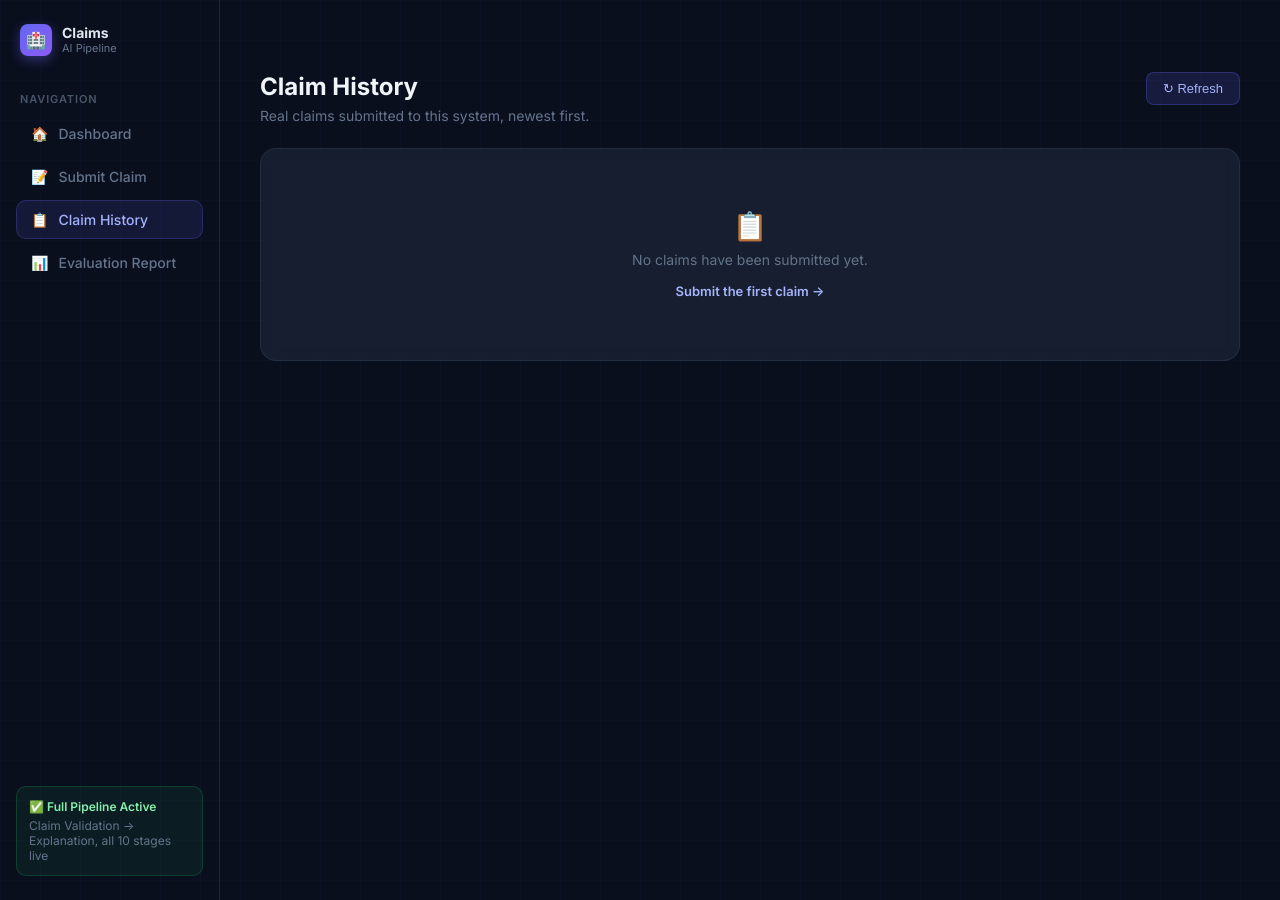
Test case: App navigation › navigating to Evaluation Report renders the real Reports page
This screenshot has width=1280, height=900.
Click the link "📊 Evaluation Report".
click(104, 262)  # box x1=31 y1=254 x2=176 y2=271
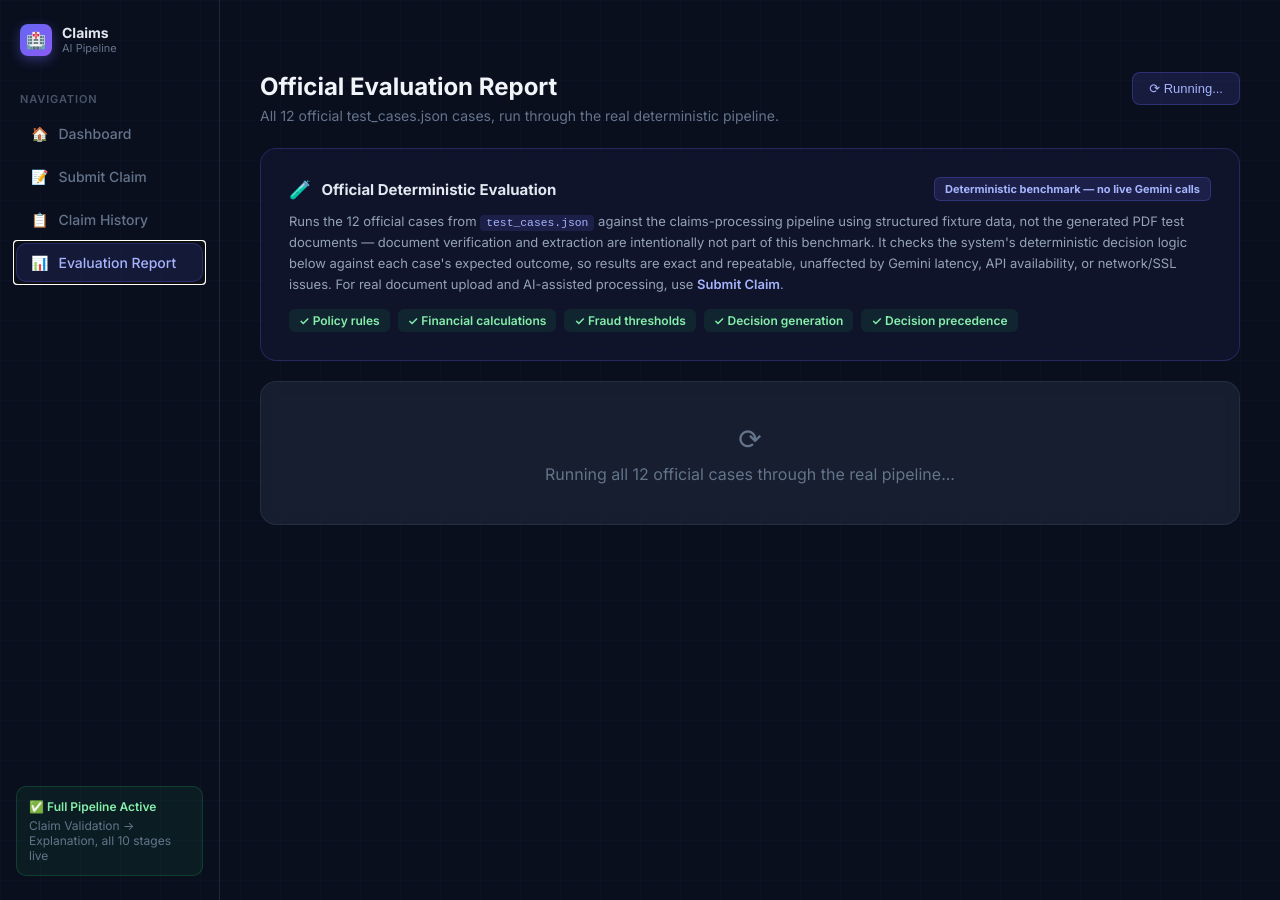
Result: the text "⟳ Running all 12 official cases through the real pipeline..." is shown at x1=260 y1=381 x2=1240 y2=525
